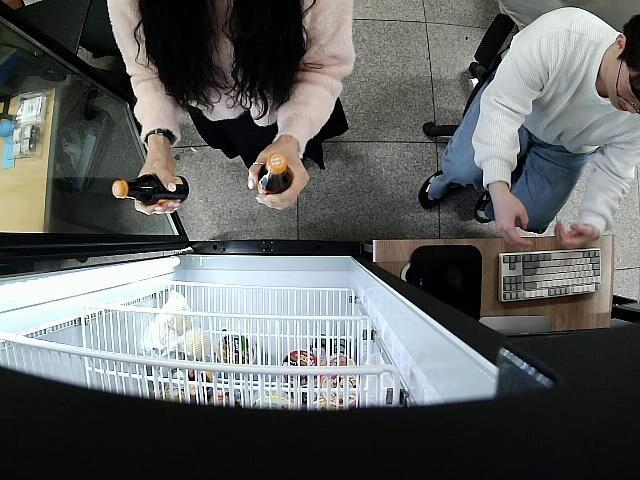17_vita500: (112, 175, 190, 206), (257, 154, 294, 200)
